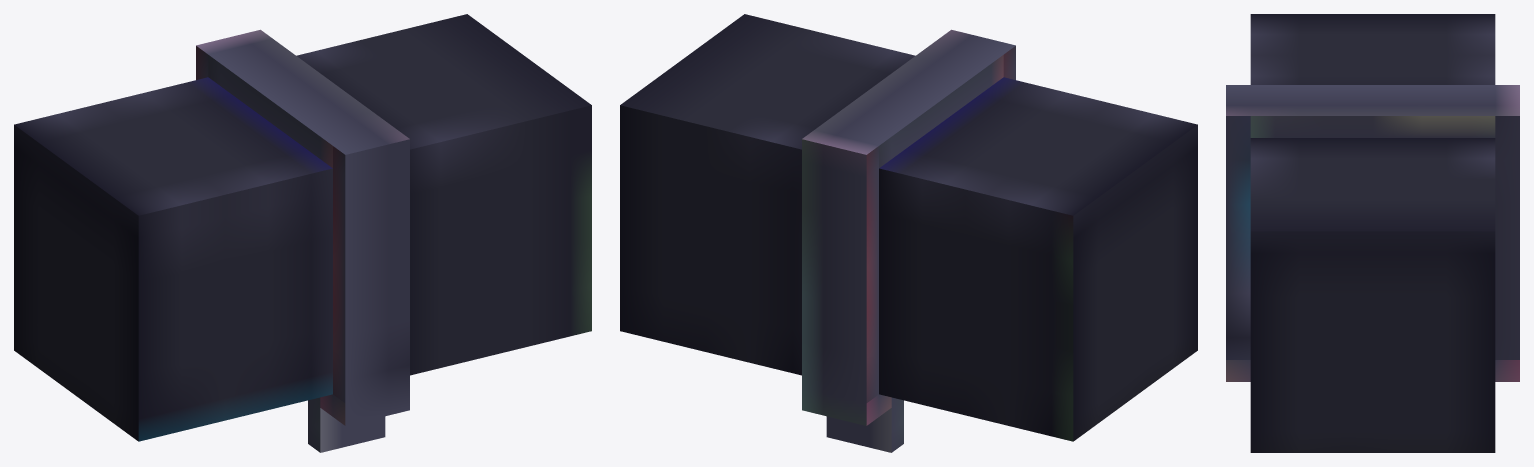
Rendered from Vent_D_00.fbx.
3 views of the same model, side by side, from view 1: azimuth 30°, elevation 25°; view 2: azimuth 150°, elevation 25°; view 3: azimuth 270°, elevation 25° (orthographic).
Parts seen in each view (by area): view 1: Vent_D_00; view 2: Vent_D_00; view 3: Vent_D_00.
Boxes of the visible parts, left/top/right/bottom form: Vent_D_00: left=14, top=14, right=591, bottom=452; Vent_D_00: left=620, top=14, right=1197, bottom=452; Vent_D_00: left=1226, top=14, right=1519, bottom=452.
Size of the model in its own units: 105 by 70 by 60.
